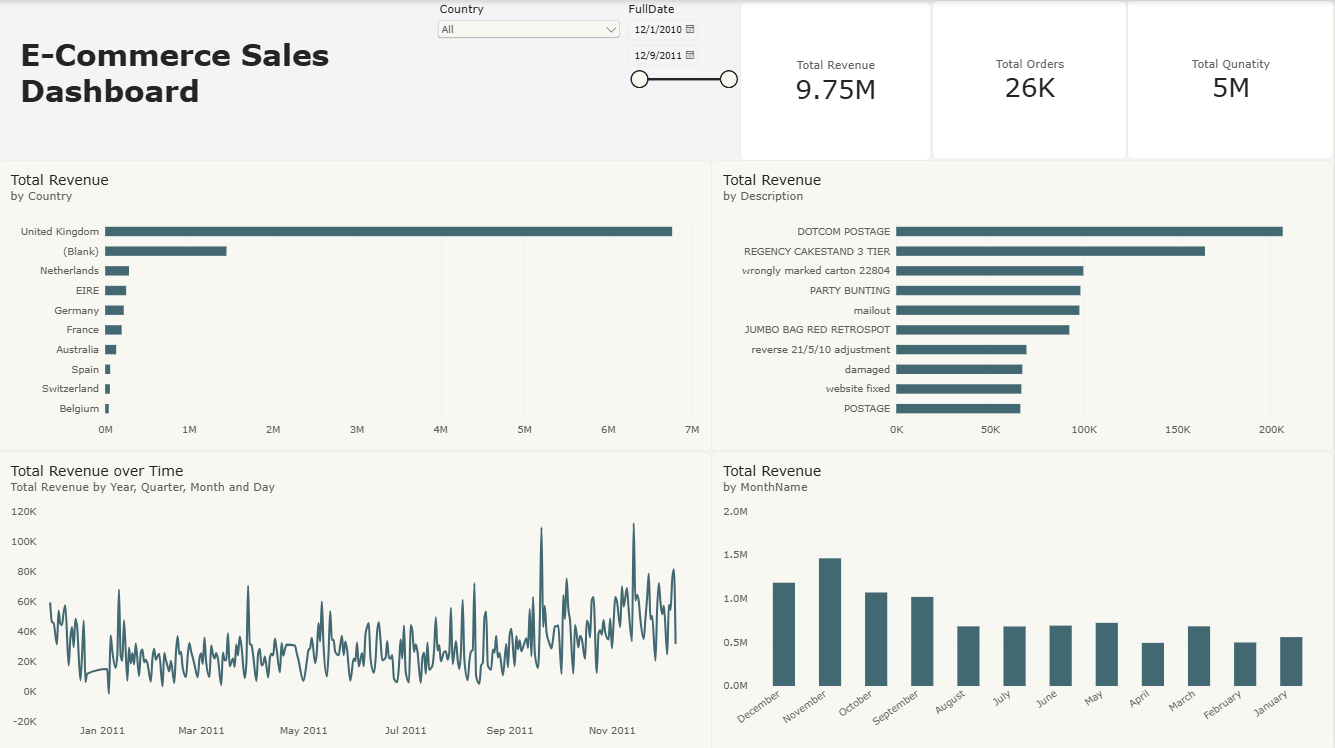

This screenshot's page, from the dashboard's own definition file:
{"tool":"powerbi","page":{"name":"Page 1","canvas":[1920,1080],"ordinal":0},"visuals":[{"type":"cardVisual","fields":{"Data":["DimCustomer.Total Revenue"]},"box":[1065.8,2.8,275,229.6],"z":0},{"type":"lineChart","title":"Total Revenue over Time","fields":{"Category":["DimDate.FullDate.Variation.Date Hierarchy.Year","DimDate.FullDate.Variation.Date Hierarchy.Quarter","DimDate.FullDate.Variation.Date Hierarchy.Month","DimDate.FullDate.Variation.Date Hierarchy.Day"],"Y":["DimCustomer.Total Revenue"]},"box":[0,649.6,1024.4,431.5],"z":1000},{"type":"barChart","fields":{"Category":["DimCustomer.Country"],"Y":["DimCustomer.Total Revenue"]},"box":[0,231.7,1024.4,417.9],"z":2000},{"type":"columnChart","fields":{"Category":["DimDate.MonthName"],"Y":["DimCustomer.Total Revenue"]},"box":[1024.4,649.6,894.9,431.5],"z":3000},{"type":"clusteredBarChart","fields":{"Category":["DimProduct.Description"],"Y":["DimCustomer.Total Revenue"]},"box":[1024.4,231.7,894.9,417.9],"z":4000},{"type":"cardVisual","fields":{"Data":["DimCustomer.Total Orders"]},"box":[1340.8,0,280.6,229.6],"z":5000},{"type":"cardVisual","fields":{"Data":["DimCustomer.Total Qunatity"]},"box":[1621.4,0,297.6,229.6],"z":6000},{"type":"textbox","box":[29.5,2.3,556.5,229.4],"z":7000},{"type":"slicer","fields":{"Values":["DimCustomer.Country"]},"box":[624.6,2.3,272.6,70.4],"z":8000},{"type":"slicer","fields":{"Values":["DimDate.FullDate"]},"box":[897.2,2.3,168.1,229.4],"z":9000}]}

Visuals, with their boxes in screenshot pixels (x1, y1, x2, y2), scaled from the page's 1920x1080 canvas onto the 1335x748 screenshot:
cardVisual - DimCustomer.Total Revenue: 741 2 932 161
"Total Revenue over Time" lineChart: 0 450 712 747
barChart - DimCustomer.Country x DimCustomer.Total Revenue: 0 160 712 450
columnChart - DimDate.MonthName x DimCustomer.Total Revenue: 712 450 1334 747
clusteredBarChart - DimProduct.Description x DimCustomer.Total Revenue: 712 160 1334 450
cardVisual - DimCustomer.Total Orders: 932 0 1127 159
cardVisual - DimCustomer.Total Qunatity: 1127 0 1334 159
textbox: 21 2 407 160
slicer - DimCustomer.Country: 434 2 624 50
slicer - DimDate.FullDate: 624 2 741 160
